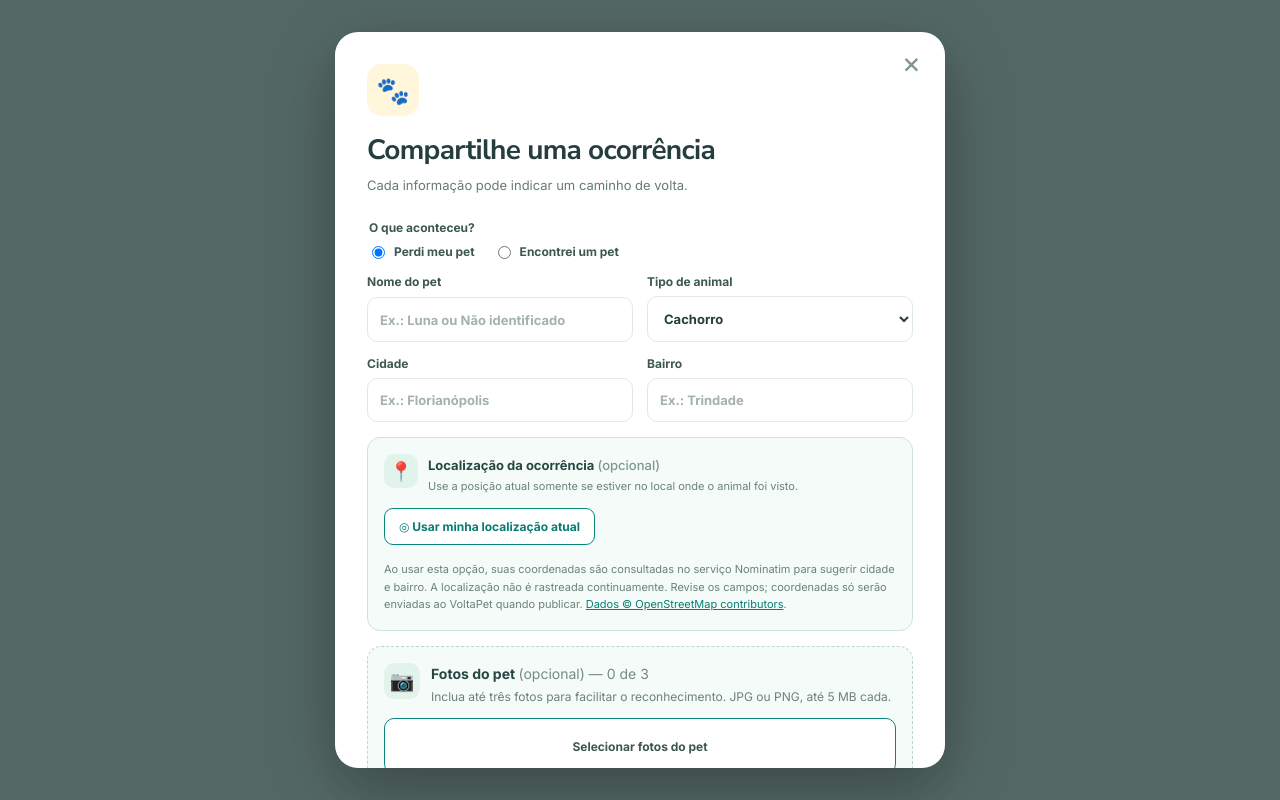
Test case: PublishDialog — geolocalização e endereço automático › mostra erro de permissão sem impedir preenchimento manual
Click the button "◎ Usar minha localização atual": (490, 526) [384, 508, 595, 545]
(page scrolled)
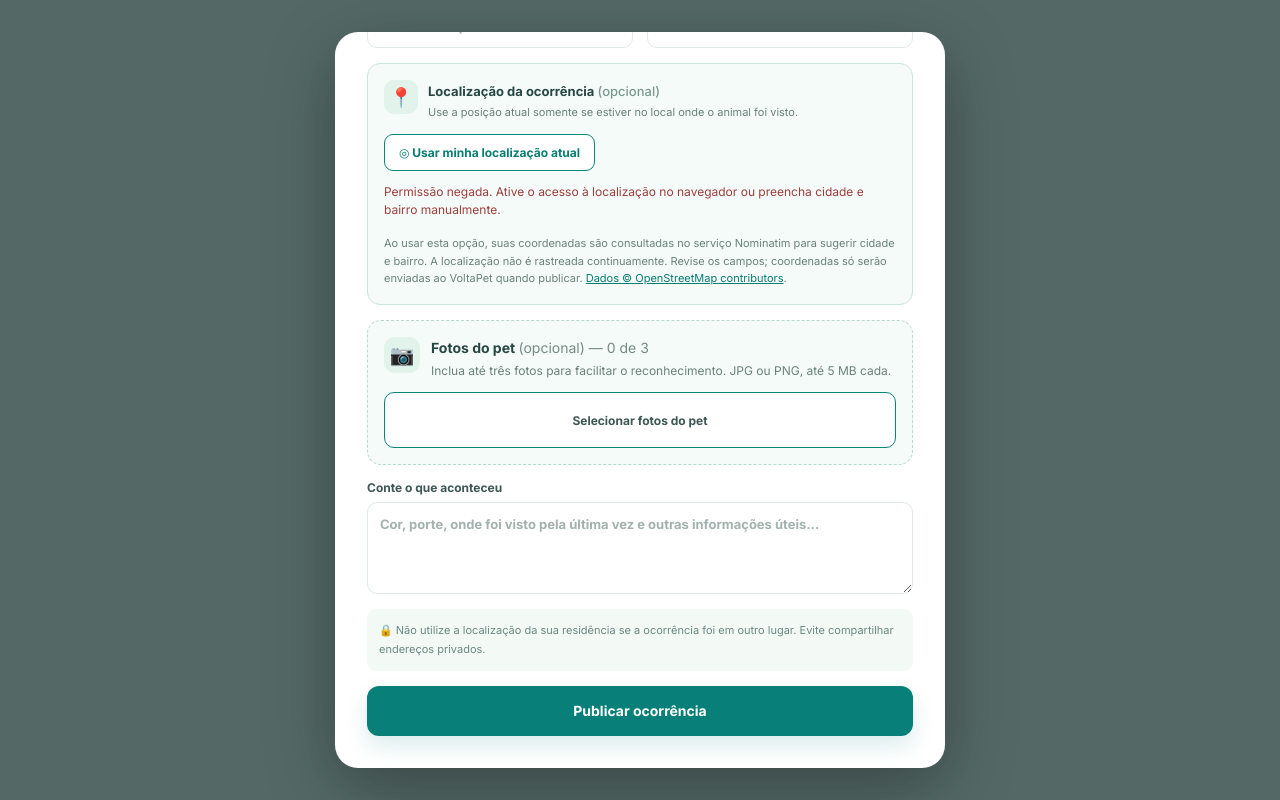
Result: the message shows "Permissão negada" at [384, 184, 864, 217]
Result: the button "Publicar ocorrência" is enabled at [367, 686, 913, 736]
